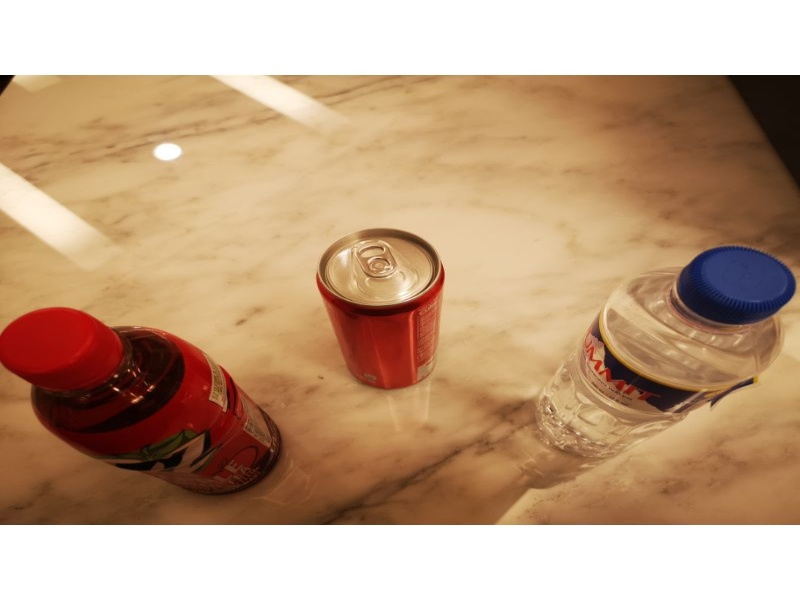PET #1: (528, 243, 793, 463), (2, 307, 285, 500)
